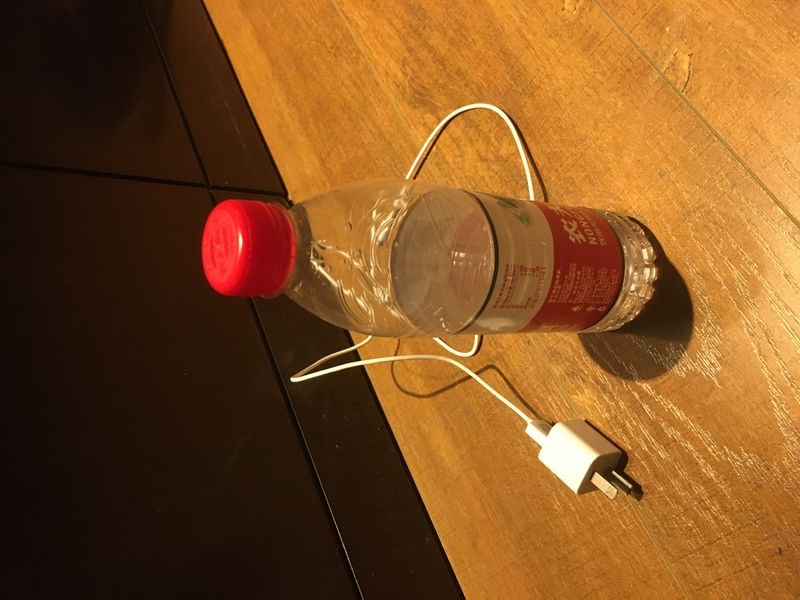5eca67a90202601e8cb8d104: (202, 181, 656, 329)
